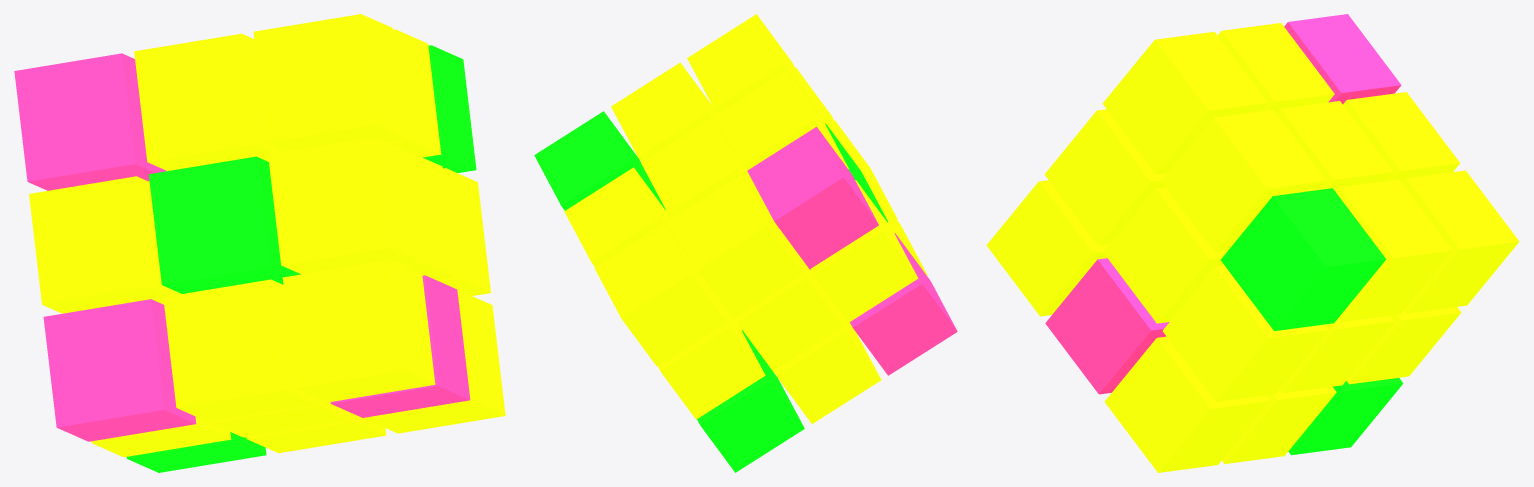
Rendered from tictactoe-DMHe40Ha.glb.
3 views of the same model, side by side, from view 1: azimuth 30°, elevation 25°; view 2: azimuth 150°, elevation 25°; view 3: azimuth 270°, elevation 25° (orthographic). The views are drawn at different scales.
Parts seen in each view (by area): view 1: Cube.026; view 2: Cube.026; view 3: Cube.026.
Boxes of the visible parts, x1,y1,x2,y2 form: Cube.026: (14, 14, 505, 472); Cube.026: (534, 14, 957, 472); Cube.026: (986, 14, 1519, 472).
Size of the model in its own units: 0.2518 by 0.2549 by 0.2777.
